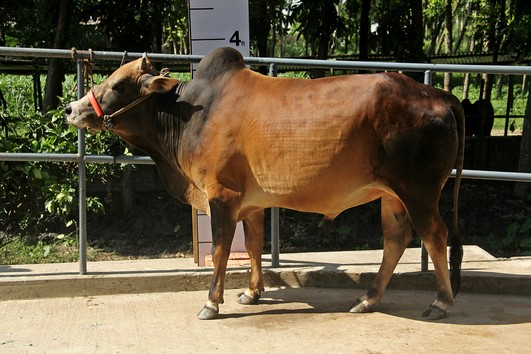cow: (57, 33, 474, 325)
